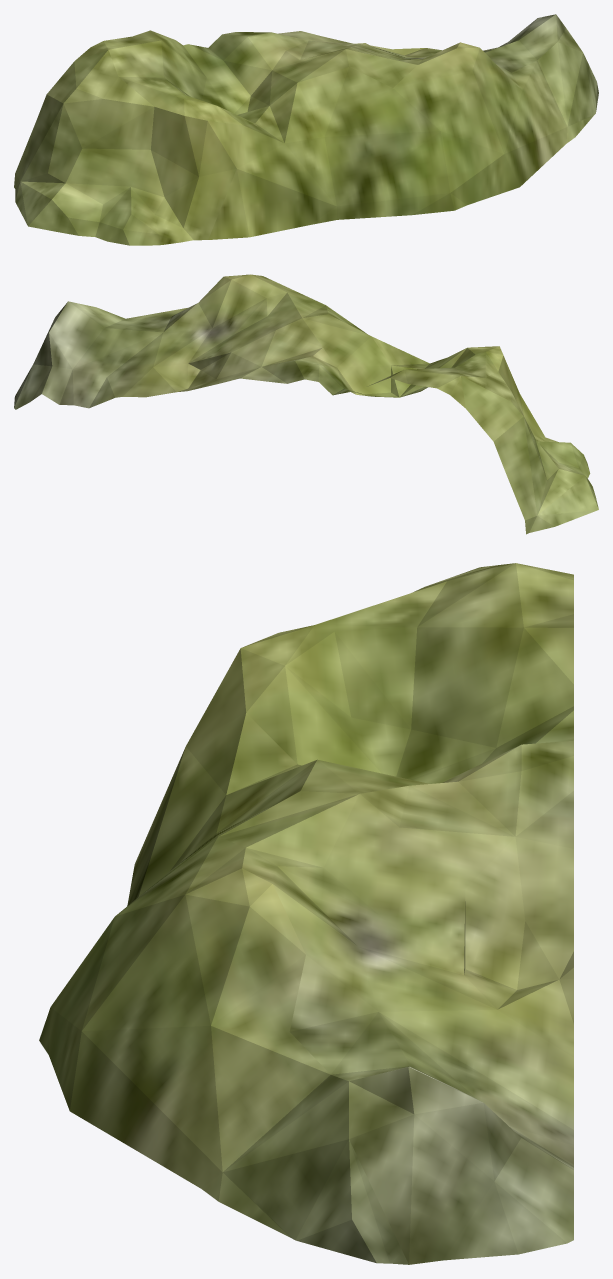
3 views of the same model, one above another, from view 1: azimuth 30°, elevation 25°; view 2: azimuth 150°, elevation 25°; view 3: azimuth 270°, elevation 25° (orthographic). The views are drawn at different scales.
Size of the model in its own units: 1.8 by 0.3918 by 0.7393.
1 material, 1 textured.
